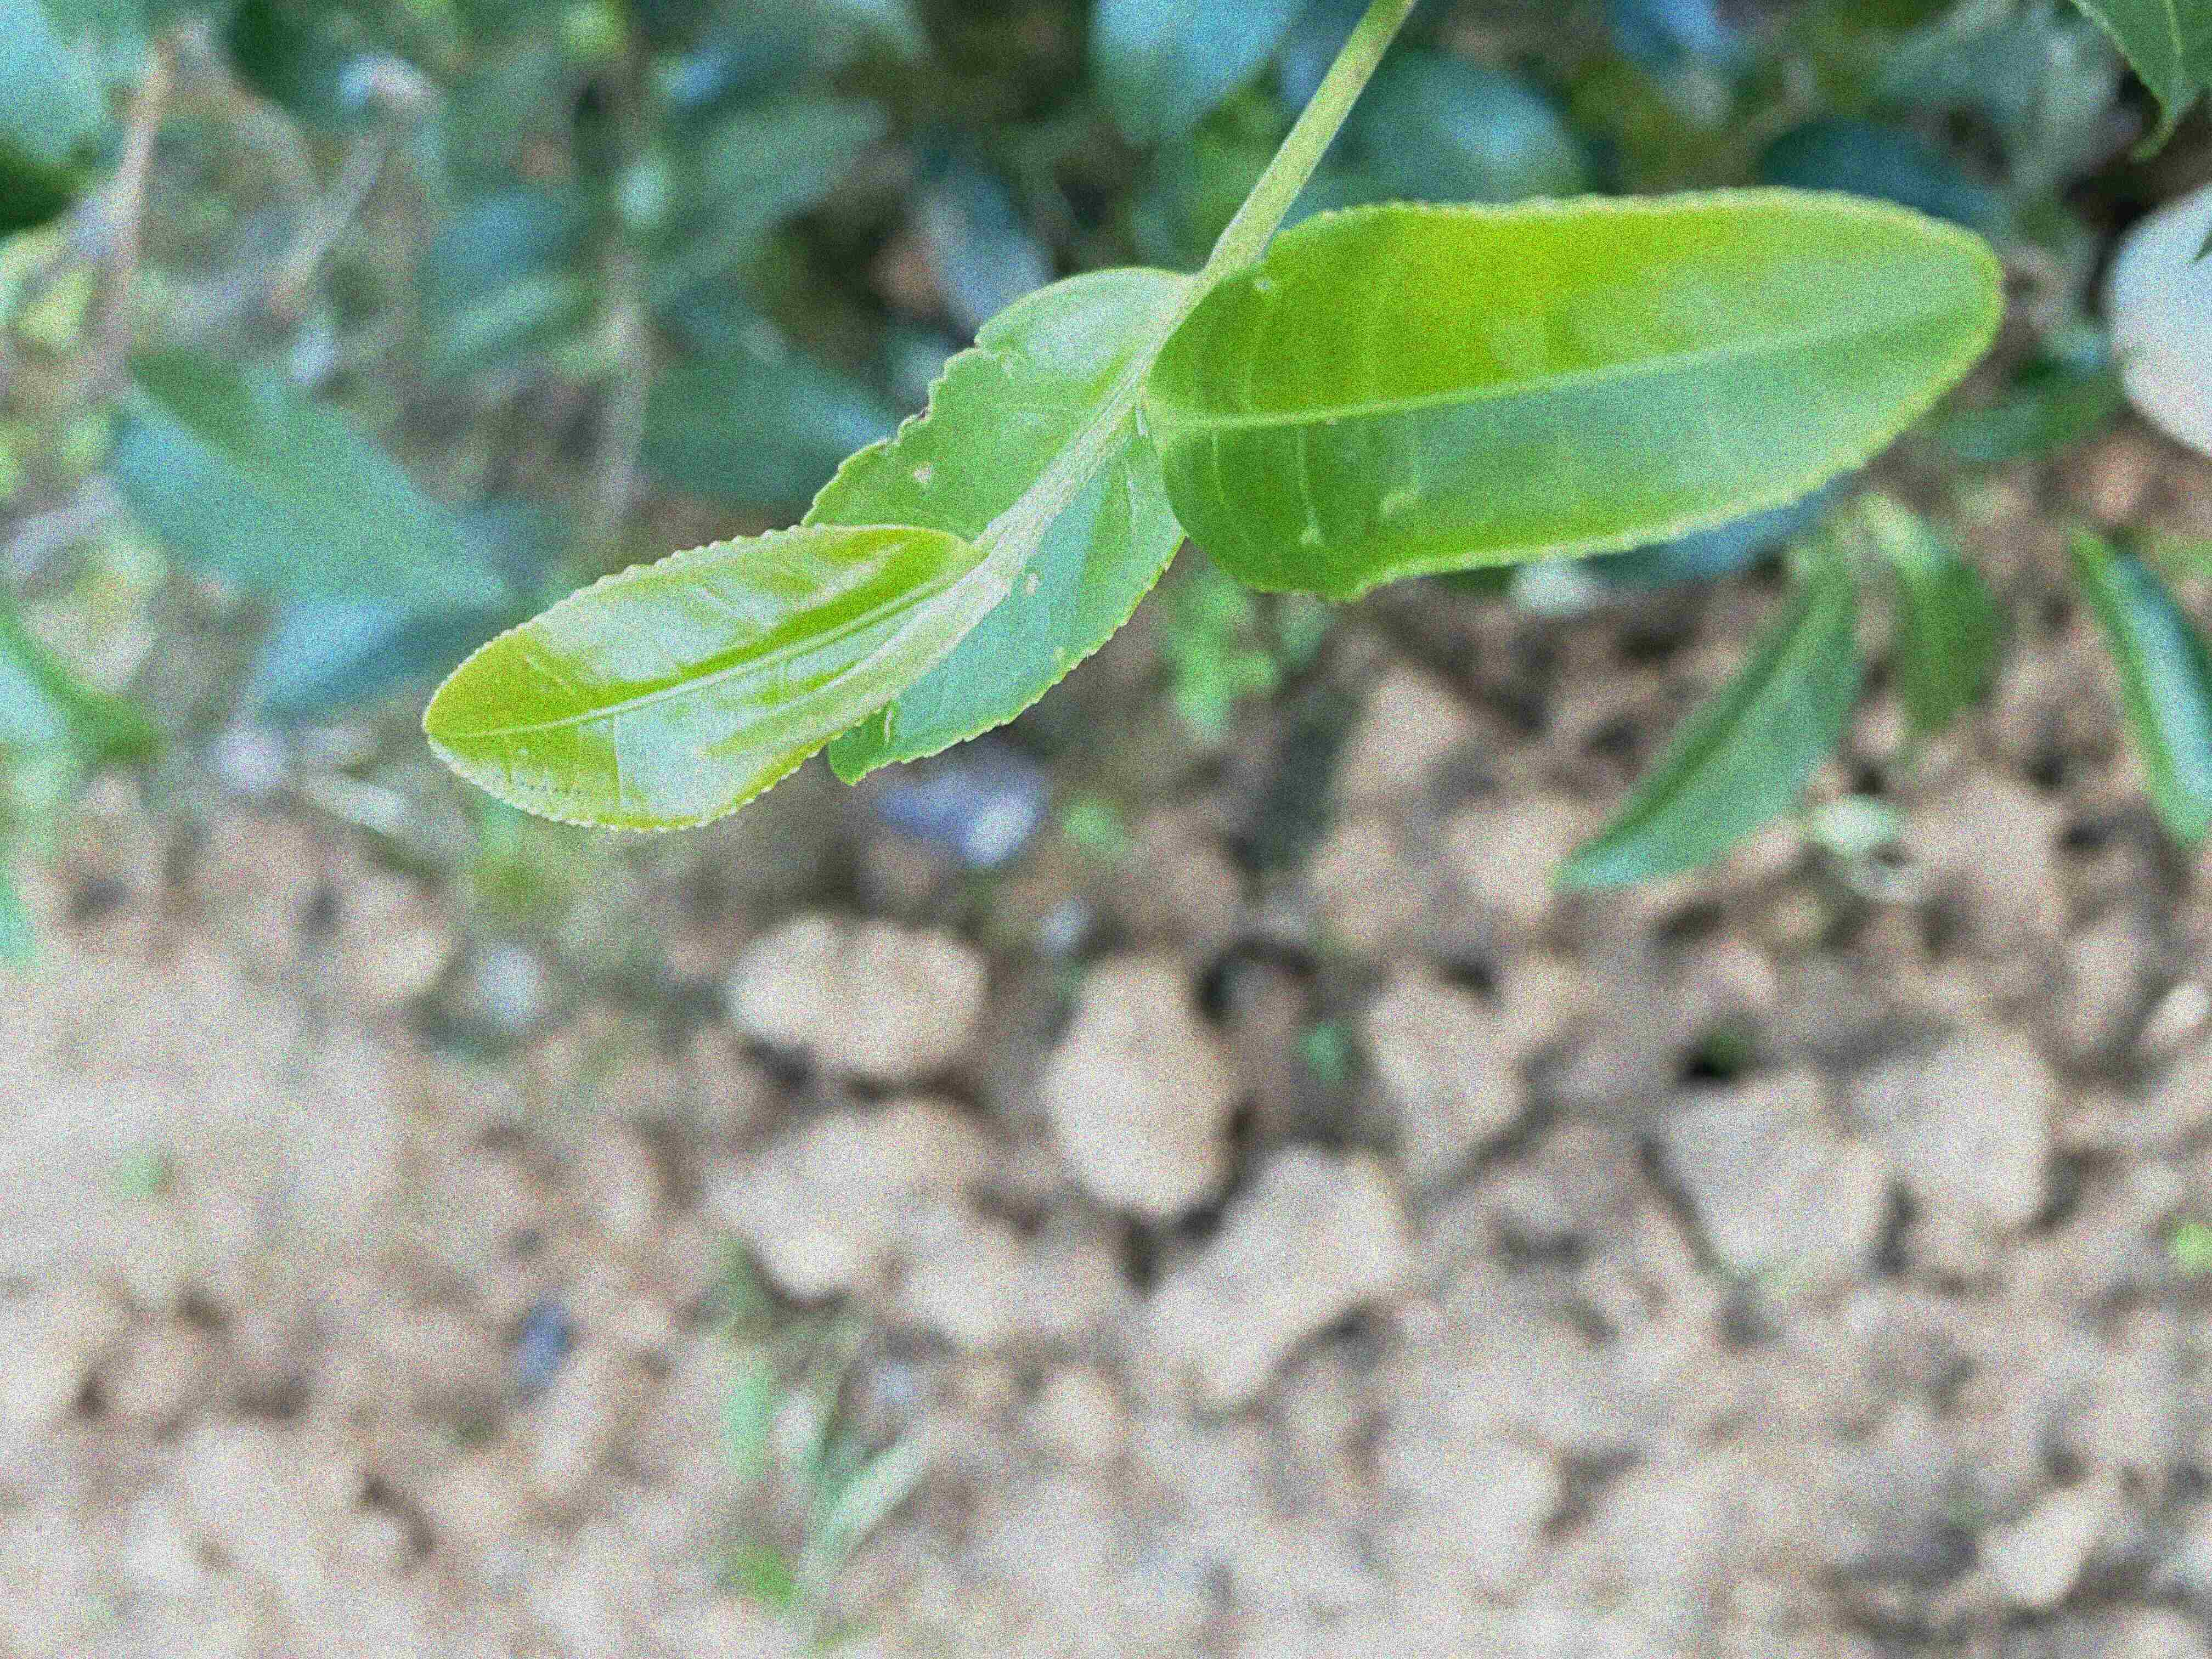healthy: (1137, 188, 2003, 601), (421, 523, 977, 833)
